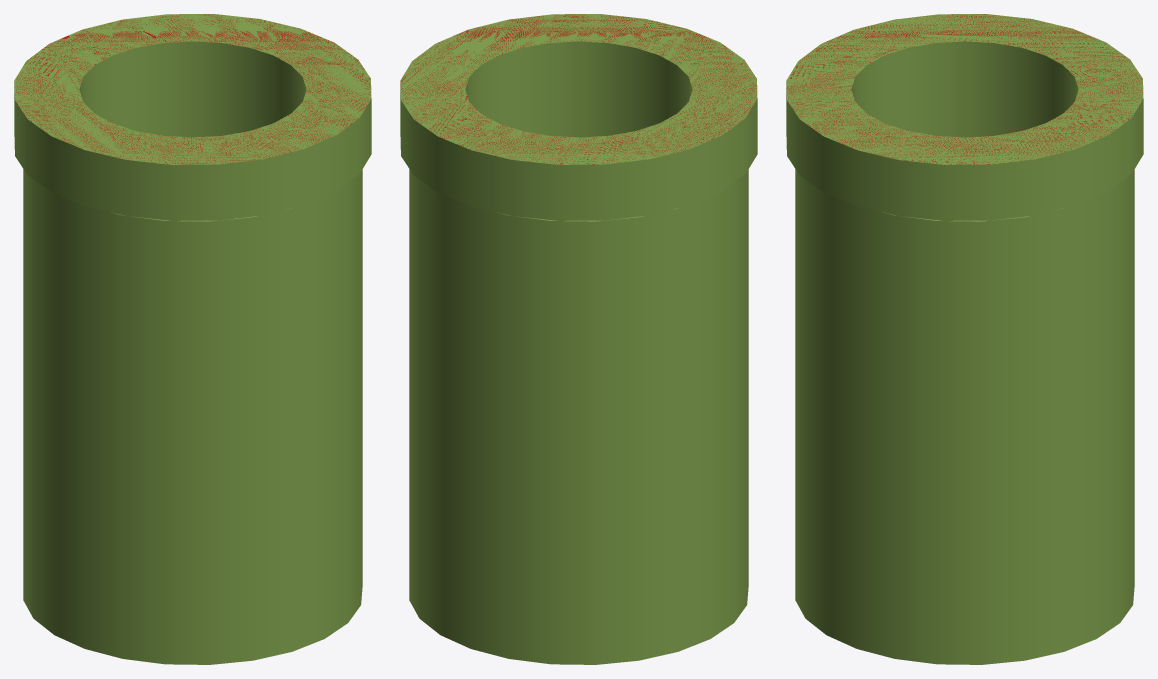
Rendered from pipe2.glb.
3 renders of one model, left to right at view 1: azimuth 30°, elevation 25°; view 2: azimuth 150°, elevation 25°; view 3: azimuth 270°, elevation 25°, orthographic.
Parts seen in each view (by area): view 1: SketchUp.002, SketchUp.005, SketchUp.006, SketchUp.007; view 2: SketchUp.002, SketchUp.005, SketchUp.006, SketchUp.007; view 3: SketchUp.002, SketchUp.005, SketchUp.006, SketchUp.007.
Part boxes in pixels (bbox=[...]): SketchUp.002: bbox=[23, 169, 362, 664]; SketchUp.005: bbox=[14, 14, 371, 164]; SketchUp.006: bbox=[14, 81, 371, 220]; SketchUp.007: bbox=[79, 41, 306, 137]; SketchUp.002: bbox=[409, 169, 748, 664]; SketchUp.005: bbox=[400, 14, 757, 164]; SketchUp.006: bbox=[400, 81, 757, 220]; SketchUp.007: bbox=[465, 41, 692, 137]; SketchUp.002: bbox=[795, 169, 1134, 664]; SketchUp.005: bbox=[786, 14, 1143, 164]; SketchUp.006: bbox=[786, 81, 1143, 220]; SketchUp.007: bbox=[851, 41, 1078, 137].
Bounding box in the file's own units: 6.47 × 10.08 × 6.47.
